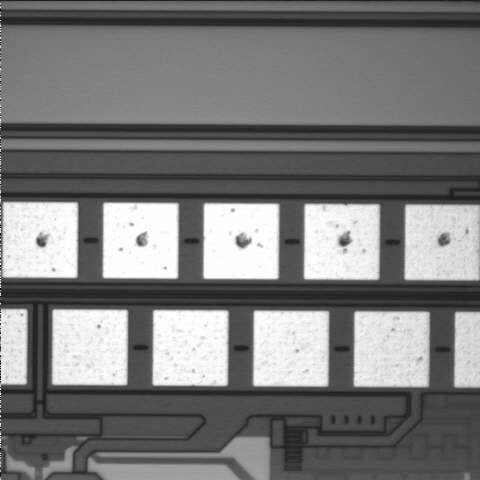pad: (2, 202, 78, 278), (103, 203, 179, 279), (203, 203, 279, 279), (304, 204, 380, 280), (52, 310, 128, 385), (153, 310, 228, 386), (253, 311, 329, 386), (354, 312, 429, 387)
